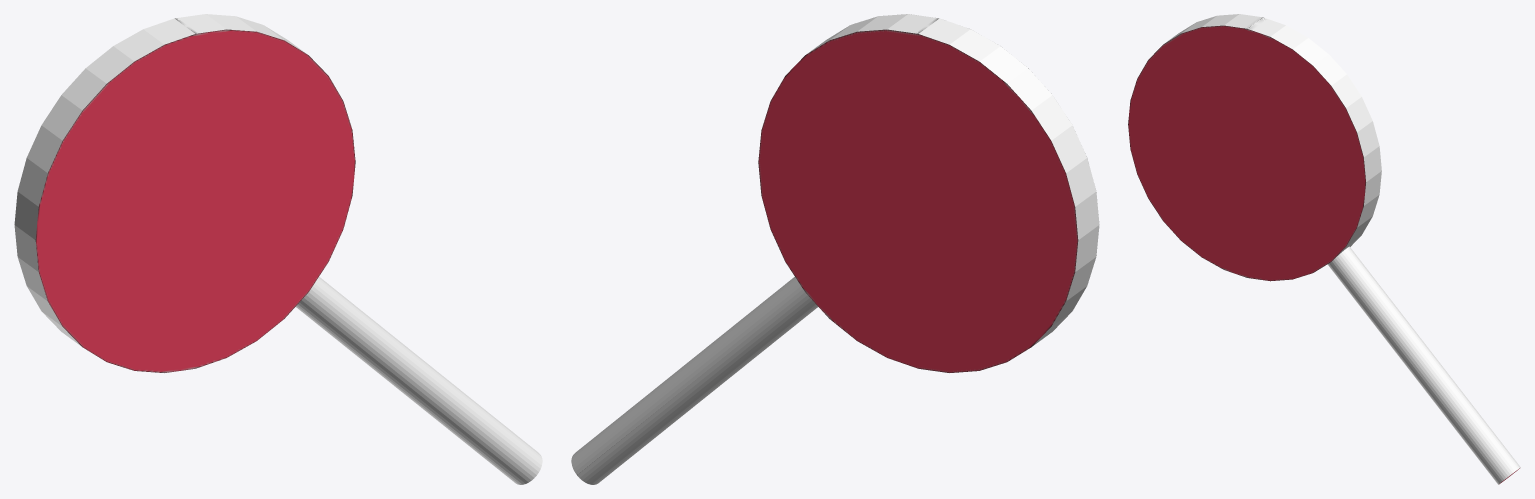
Rendered from Candy.obj.
3 renders of one model, left to right at view 1: azimuth 30°, elevation 25°; view 2: azimuth 150°, elevation 25°; view 3: azimuth 330°, elevation 25°, orthographic. The views are drawn at different scales.
Parts seen in each view (by area): view 1: 円柱.001; view 2: 円柱.001; view 3: 円柱.001.
Part boxes in pixels (left/top/right/bottom): 円柱.001: left=14, top=14, right=542, bottom=484; 円柱.001: left=571, top=14, right=1099, bottom=484; 円柱.001: left=1128, top=14, right=1520, bottom=484.
Bounding box in the file's own units: 2.47 × 2.47 × 0.1764.
Materials: 1 (1 with a texture image).
